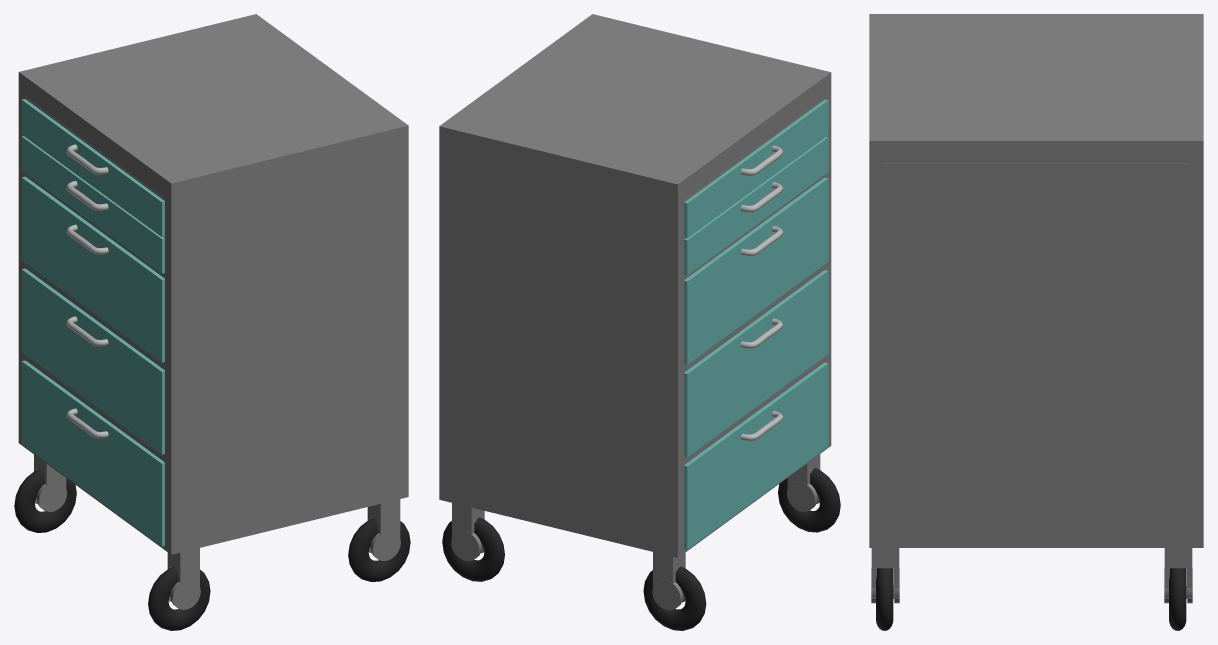
File: Blue and Gray Drawers2.fbx
The picture shows the model from 3 angles, left to right: view 1: azimuth 30°, elevation 25°; view 2: azimuth 150°, elevation 25°; view 3: azimuth 270°, elevation 25°; orthographic projection. The views are drawn at different scales.
Visible parts, largest first — view 1: Surgery_side_table_leg_10, Surgery_side_table_leg_14, Surgery_side_table_leg_12, Surgery_side_table_leg_18, Surgery_side_table_leg_16 (×2), Drugery_table_hio2 (×3), Surgery_side_table_leg_9, pCylinder9 (×3), Surgery_side_table_leg_19 (×2), Surgery_side_table_leg_13, Surgery_side_table_leg_11, Surgery_side_table_leg_17; view 2: Surgery_side_table_leg_9, Surgery_side_table_leg_10, Surgery_side_table_leg_12, Surgery_side_table_leg_14, Surgery_side_table_leg_18, Surgery_side_table_leg_16 (×2), Drugery_table_hio2 (×3), pCylinder8 (×3), Surgery_side_table_leg_19 (×2), Surgery_side_table_leg_13, Surgery_side_table_leg_11, Surgery_side_table_leg_17; view 3: Surgery_side_table_leg_10, Surgery_side_table_leg_11, Surgery_side_table_leg_17, Surgery_side_table_leg_13, Surgery_side_table_leg_15 (×2), Surgery_side_table_leg_9, Drugery_table_hio2 (×2), Surgery_side_table_leg_19 (×2).
Boxes of the visible parts, bbox=[...] form: Surgery_side_table_leg_10: bbox=[24, 18, 408, 554]; Surgery_side_table_leg_14: bbox=[21, 360, 164, 546]; Surgery_side_table_leg_12: bbox=[21, 268, 164, 454]; Surgery_side_table_leg_18: bbox=[21, 176, 164, 362]; Surgery_side_table_leg_16 (×2): bbox=[21, 99, 164, 273]; Drugery_table_hio2 (×3): bbox=[14, 469, 410, 630]; Surgery_side_table_leg_9: bbox=[18, 14, 261, 447]; pCylinder9 (×3): bbox=[36, 482, 400, 609]; Surgery_side_table_leg_19 (×2): bbox=[167, 499, 400, 585]; Surgery_side_table_leg_13: bbox=[24, 356, 167, 551]; Surgery_side_table_leg_11: bbox=[24, 264, 167, 460]; Surgery_side_table_leg_17: bbox=[24, 174, 167, 368]; Surgery_side_table_leg_9: bbox=[439, 122, 683, 557]; Surgery_side_table_leg_10: bbox=[445, 14, 831, 447]; Surgery_side_table_leg_12: bbox=[684, 270, 828, 457]; Surgery_side_table_leg_14: bbox=[684, 362, 828, 549]; Surgery_side_table_leg_18: bbox=[684, 177, 828, 364]; Surgery_side_table_leg_16 (×2): bbox=[684, 99, 828, 275]; Drugery_table_hio2 (×3): bbox=[442, 468, 840, 630]; pCylinder8 (×3): bbox=[451, 481, 817, 610]; Surgery_side_table_leg_19 (×2): bbox=[452, 503, 685, 597]; Surgery_side_table_leg_13: bbox=[684, 356, 827, 553]; Surgery_side_table_leg_11: bbox=[684, 264, 827, 460]; Surgery_side_table_leg_17: bbox=[684, 173, 827, 368]; Surgery_side_table_leg_10: bbox=[869, 14, 1193, 547]; Surgery_side_table_leg_11: bbox=[882, 346, 1194, 447]; Surgery_side_table_leg_17: bbox=[882, 246, 1194, 346]; Surgery_side_table_leg_13: bbox=[882, 447, 1194, 547]; Surgery_side_table_leg_15 (×2): bbox=[882, 163, 1194, 245]; Surgery_side_table_leg_9: bbox=[1190, 14, 1203, 547]; Drugery_table_hio2 (×2): bbox=[876, 568, 1186, 630]; Surgery_side_table_leg_19 (×2): bbox=[871, 548, 1192, 598].
Bounding box in the file's own units: 4.29 × 7.15 × 4.34.
